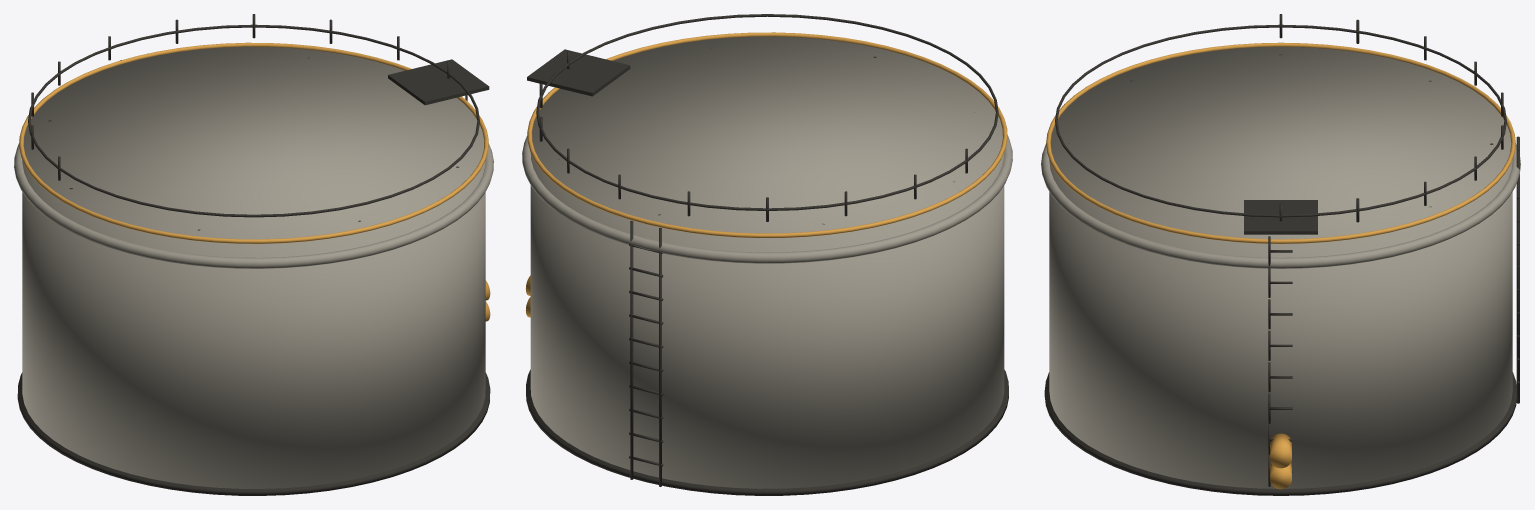
Rendered from floating_roof_tank.obj.
The picture shows the model from 3 angles, left to right: view 1: azimuth 30°, elevation 25°; view 2: azimuth 150°, elevation 25°; view 3: azimuth 270°, elevation 25°; orthographic projection. The views are drawn at different scales.
Parts seen in each view (by area): view 1: floating_roof_tank__Steel, floating_roof_tank__DarkSteel, floating_roof_tank__Amber; view 2: floating_roof_tank__Steel, floating_roof_tank__DarkSteel, floating_roof_tank__Amber; view 3: floating_roof_tank__Steel, floating_roof_tank__DarkSteel, floating_roof_tank__Amber.
Part boxes in pixels (bbox=[...]): floating_roof_tank__Steel: bbox=[14, 46, 493, 488]; floating_roof_tank__DarkSteel: bbox=[17, 14, 490, 495]; floating_roof_tank__Amber: bbox=[19, 42, 490, 321]; floating_roof_tank__Steel: bbox=[522, 36, 1012, 488]; floating_roof_tank__DarkSteel: bbox=[526, 14, 1008, 495]; floating_roof_tank__Amber: bbox=[525, 32, 1007, 317]; floating_roof_tank__Steel: bbox=[1041, 46, 1520, 488]; floating_roof_tank__DarkSteel: bbox=[1044, 14, 1519, 495]; floating_roof_tank__Amber: bbox=[1046, 42, 1515, 489].
Bounding box in the file's own units: 10.93 × 6.82 × 10.36.
